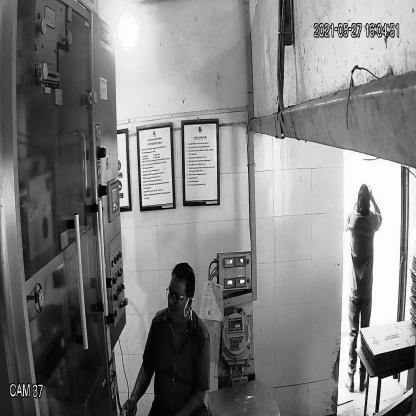goggles: (165, 284, 194, 305)
